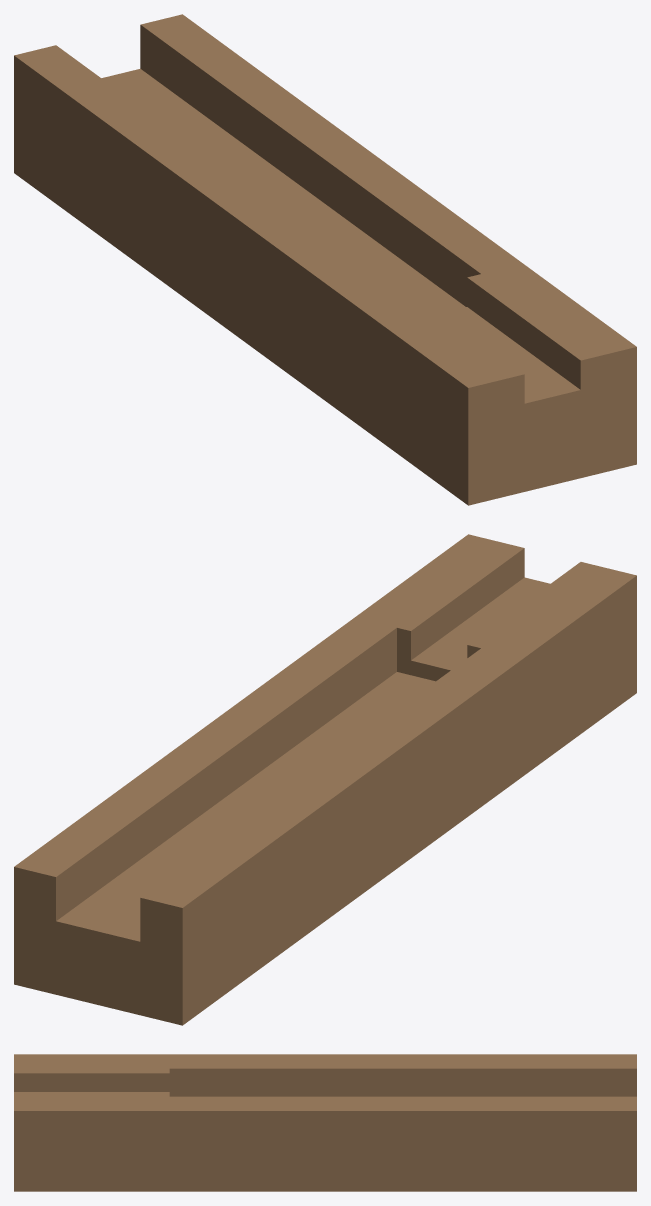
The model's file is gangster_submachine_gun_rectangularGrip.fbx.
The picture shows the model from 3 angles, top to bottom: view 1: azimuth 30°, elevation 25°; view 2: azimuth 150°, elevation 25°; view 3: azimuth 270°, elevation 25°; orthographic projection. The views are drawn at different scales.
Parts seen in each view (by area): view 1: gangster_submachine_gun_rectangularGrip; view 2: gangster_submachine_gun_rectangularGrip; view 3: gangster_submachine_gun_rectangularGrip.
Part boxes in pixels (x1,y1,x2,y2): gangster_submachine_gun_rectangularGrip: (14,14,636,505); gangster_submachine_gun_rectangularGrip: (14,534,636,1025); gangster_submachine_gun_rectangularGrip: (14,1054,636,1191).
Bounding box in the file's own units: 7.2 × 4.8 × 33.6.
